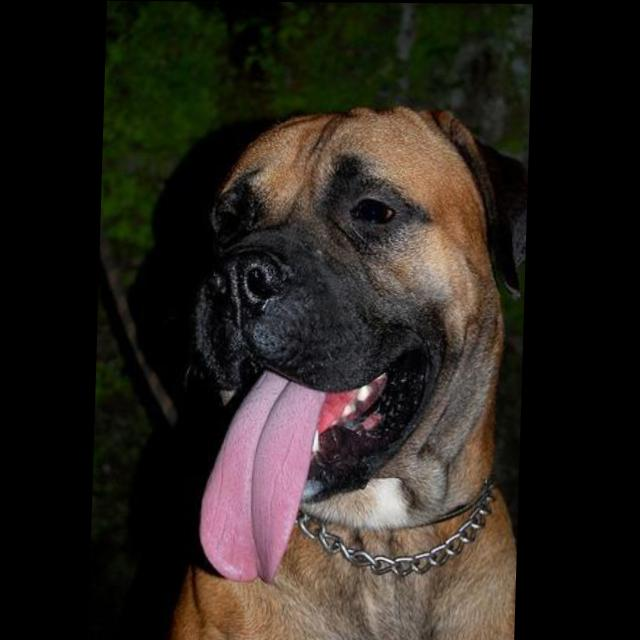bullmastiff: (118, 102, 531, 640)
